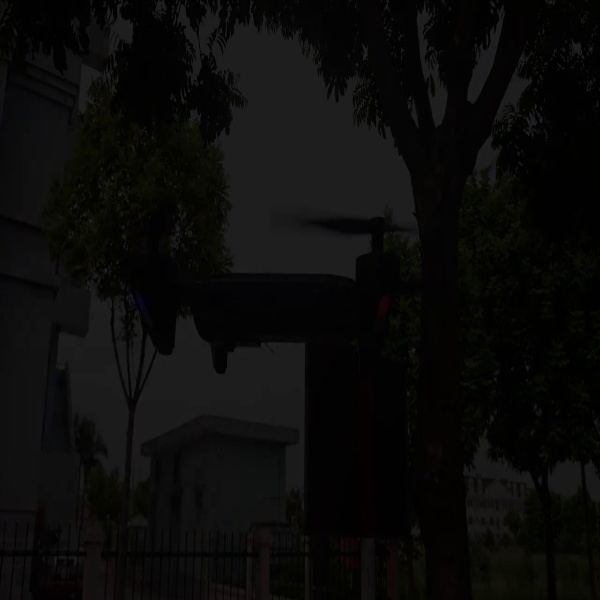drone: (110, 213, 415, 375)
